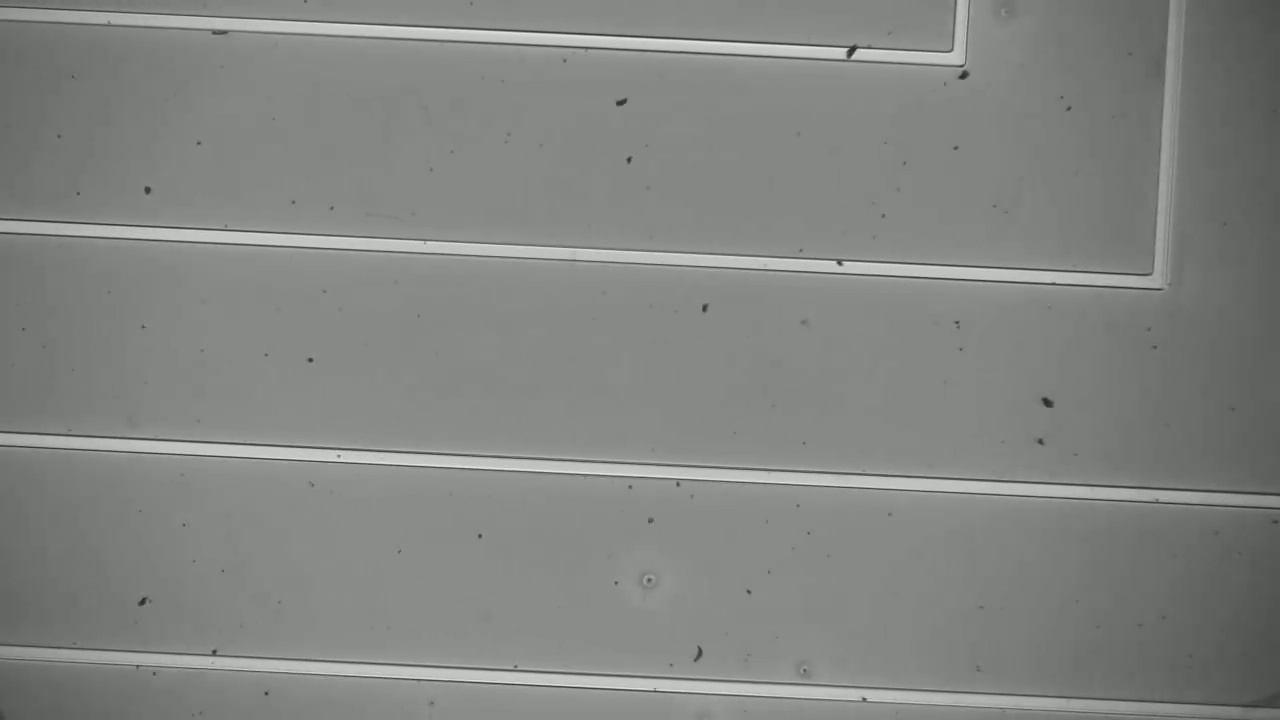stains_enbedded: (839, 39, 867, 69)
